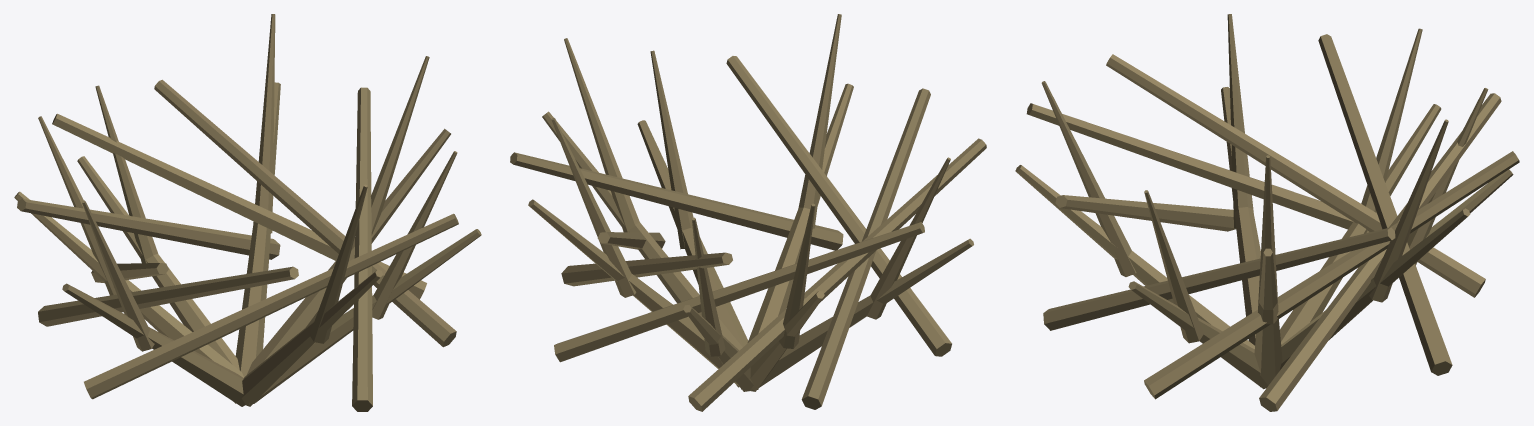
Rendered from desert-tumbleweed.glb.
3 renders of one model, left to right at view 1: azimuth 30°, elevation 25°; view 2: azimuth 150°, elevation 25°; view 3: azimuth 270°, elevation 25°, orthographic. The views are drawn at different scales.
Parts seen in each view (by area): view 1: desert-tumbleweed; view 2: desert-tumbleweed; view 3: desert-tumbleweed.
Boxes of the visible parts, x1,y1,x2,y2 form: desert-tumbleweed: (14,14,481,411); desert-tumbleweed: (510,14,986,411); desert-tumbleweed: (1015,14,1519,411).
Bounding box in the file's own units: 0.8031 × 0.5722 × 0.8052.
